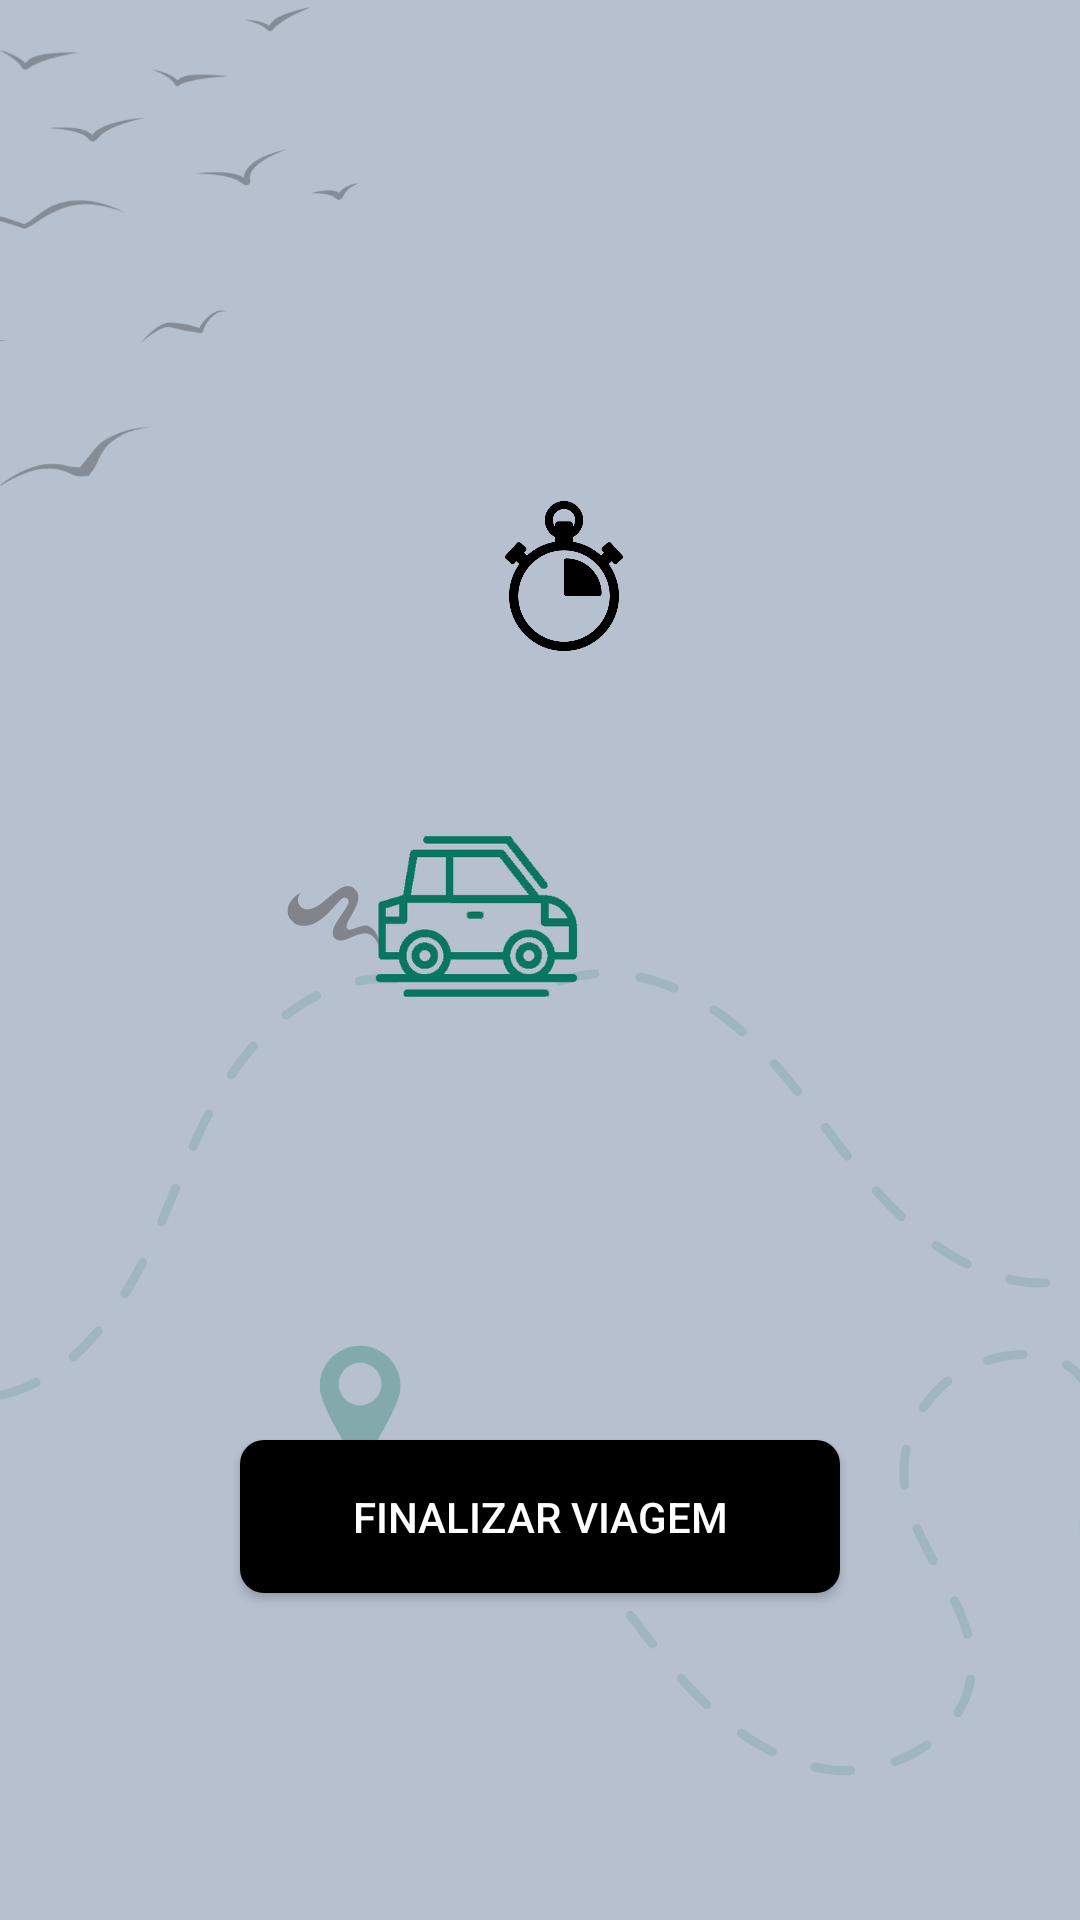

Where to tap for icons on this 1080x1920 app screen, as point (x, y):
cronometro: point (564, 576)
